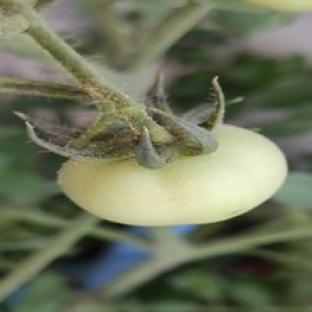Tomato: (59, 126, 286, 225)
